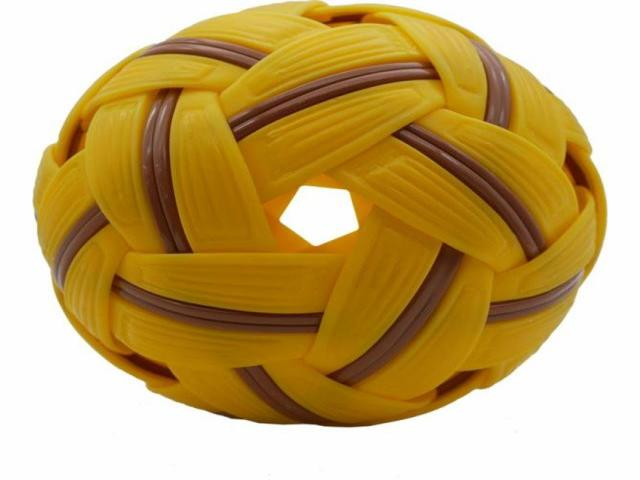round ball: (38, 3, 614, 433)
